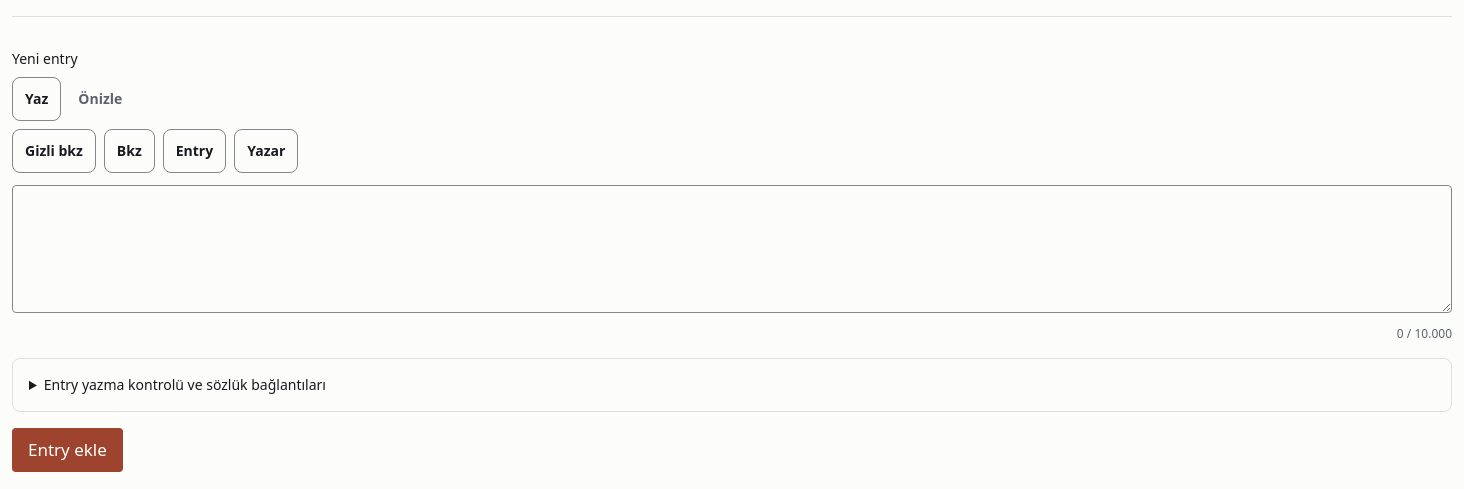
it: composer bkz araç çubuğu · seçili metin › Gizli bkz butonu seçimi sarar ve seçimi içeride bırakır
Type "bugün açık kaynak üzerine düşündüm" into the text box labelled "Yeni entry".
click(732, 249); type("bugün açık kaynak üzerine düşündüm")  # box [12,185,1452,313]
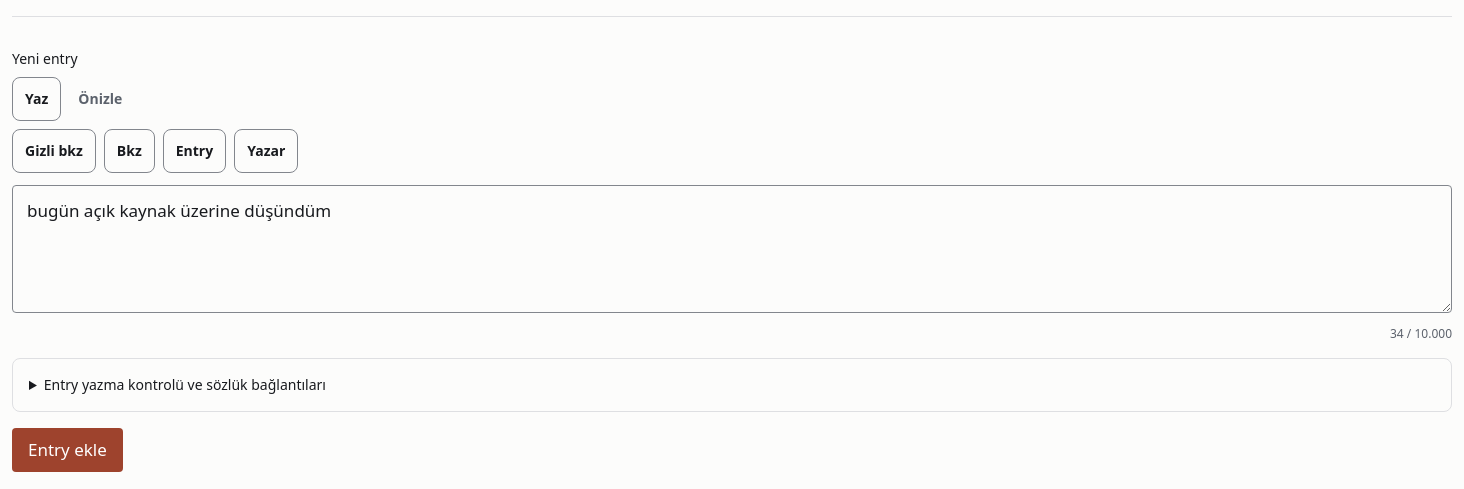
Click the button with aria-label "Gizli bkz ekle: çift köşeli parantez".
click(54, 151)  # box [12,129,96,173]
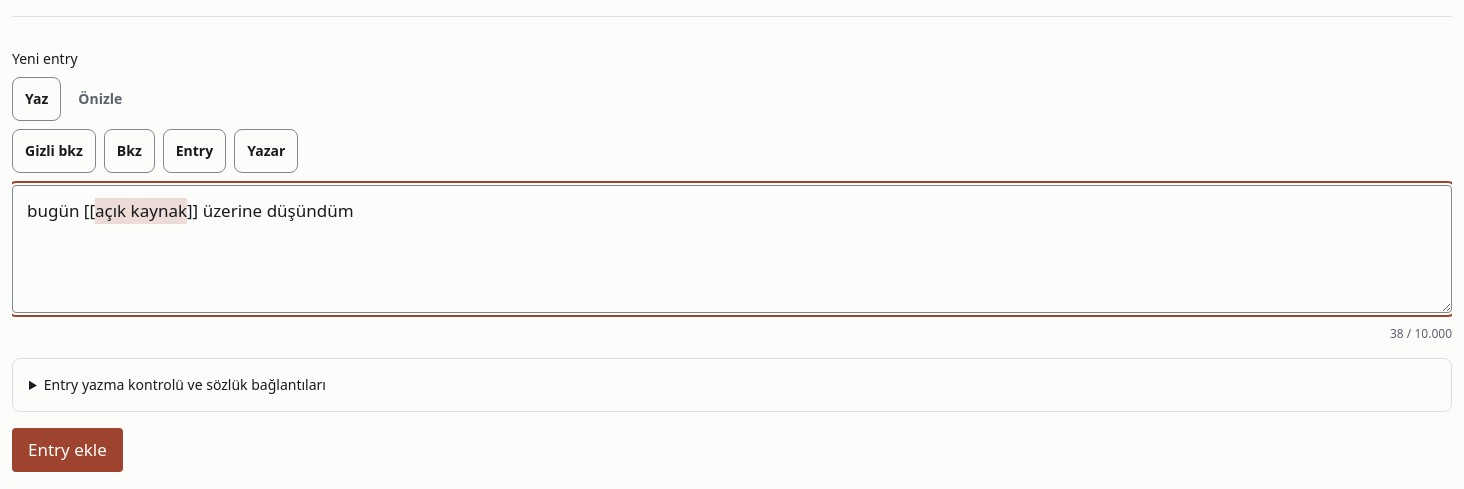
Result: the text box labelled "Yeni entry" holds "bugün [ [açık kaynak]] üzerine düşündüm" at [12,185,1452,313]
